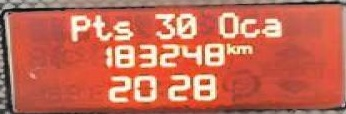0: (131, 74, 156, 101), (175, 11, 196, 38)
1: (103, 45, 111, 67)
2: (165, 72, 190, 100), (106, 75, 130, 102), (158, 42, 178, 66)
3: (153, 12, 174, 37), (136, 42, 156, 66)
4: (180, 42, 201, 65)
8: (191, 72, 215, 100), (113, 44, 133, 68), (203, 41, 223, 65)
X: (214, 10, 238, 37), (68, 14, 89, 41), (90, 14, 111, 40), (260, 16, 281, 37), (111, 20, 133, 40), (238, 18, 258, 38), (233, 44, 251, 53), (224, 41, 233, 54)
